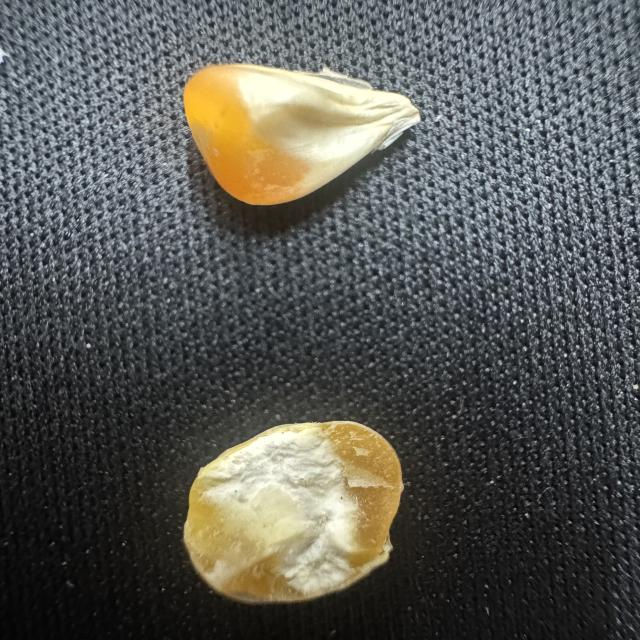Bad-Seed: (176, 405, 406, 611), (170, 46, 429, 215)
